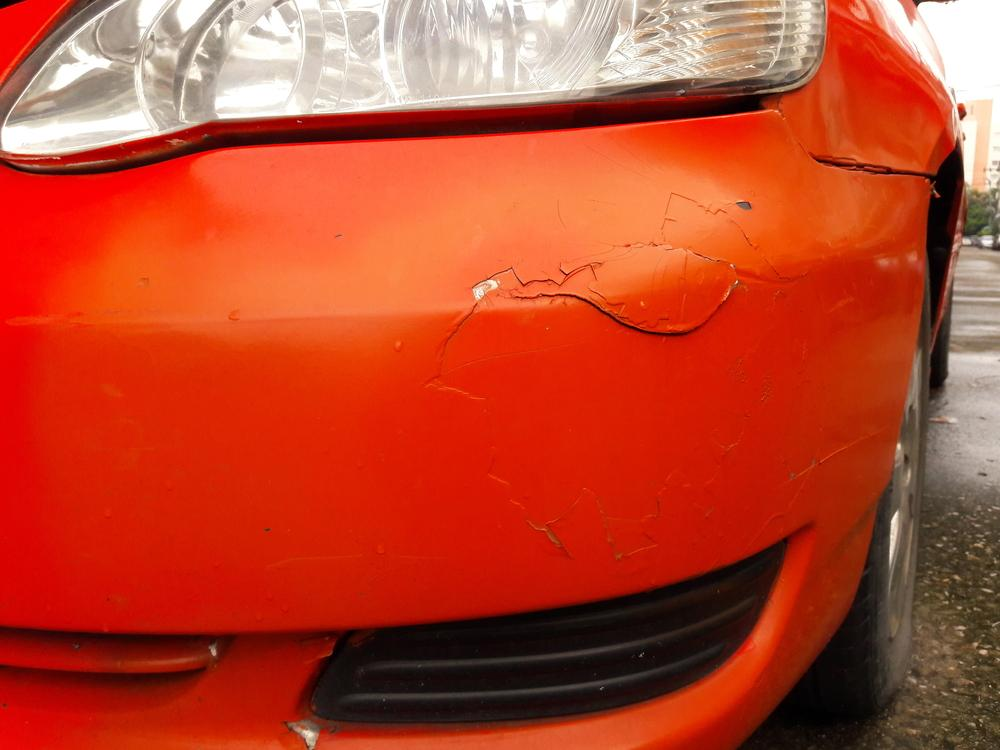crack: (515, 279, 739, 338)
